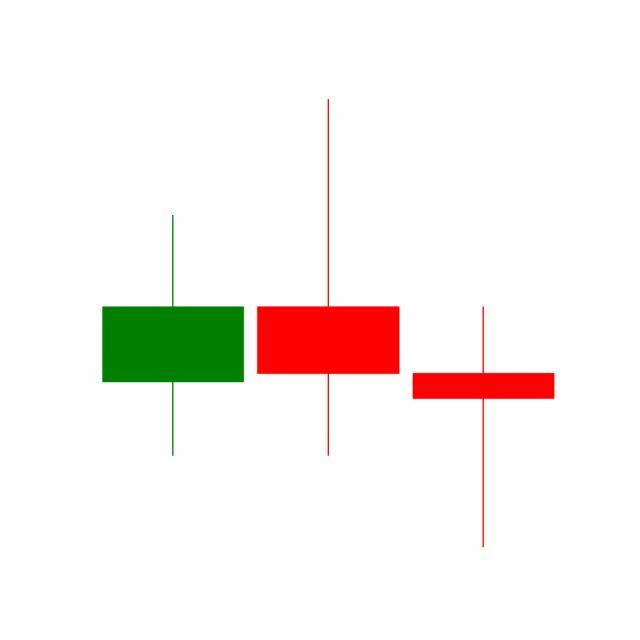Spinning Top: (250, 95, 407, 461)
